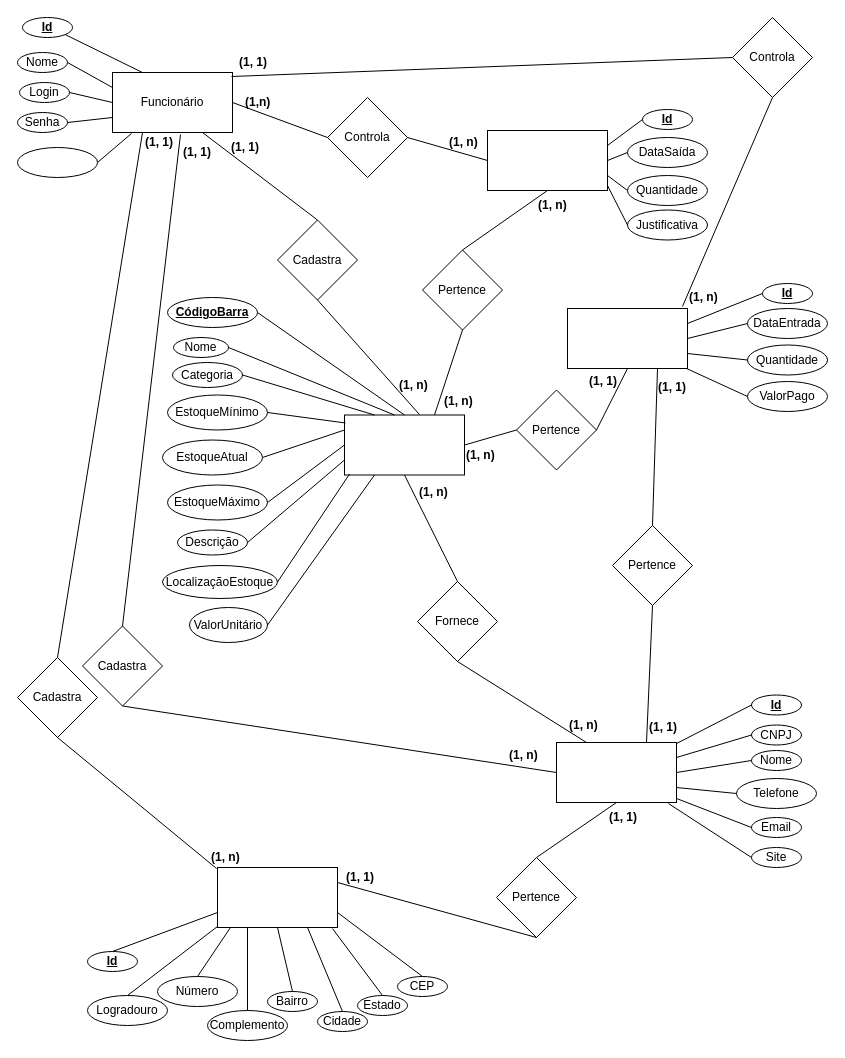
This 845x1058 diagram has some shape labels left out. The box of each missing label's shape, as (x1, y1, x2, y2) in pixels:
Controle de Entrada: (566, 308, 688, 368)
Controle de Saída: (486, 130, 608, 190)
Endereço: (216, 866, 338, 928)
Fonecedor: (556, 742, 676, 802)
NívelAcesso: (16, 146, 98, 178)
Produto: (344, 414, 464, 475)
